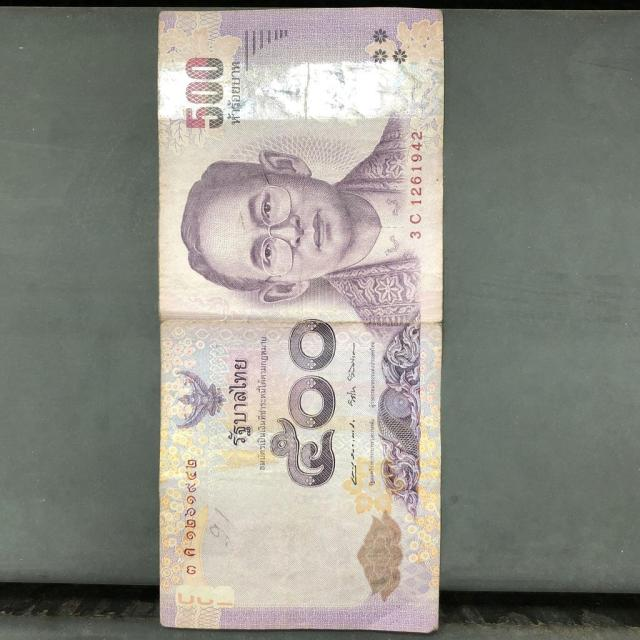THAI500: (159, 9, 444, 632)
